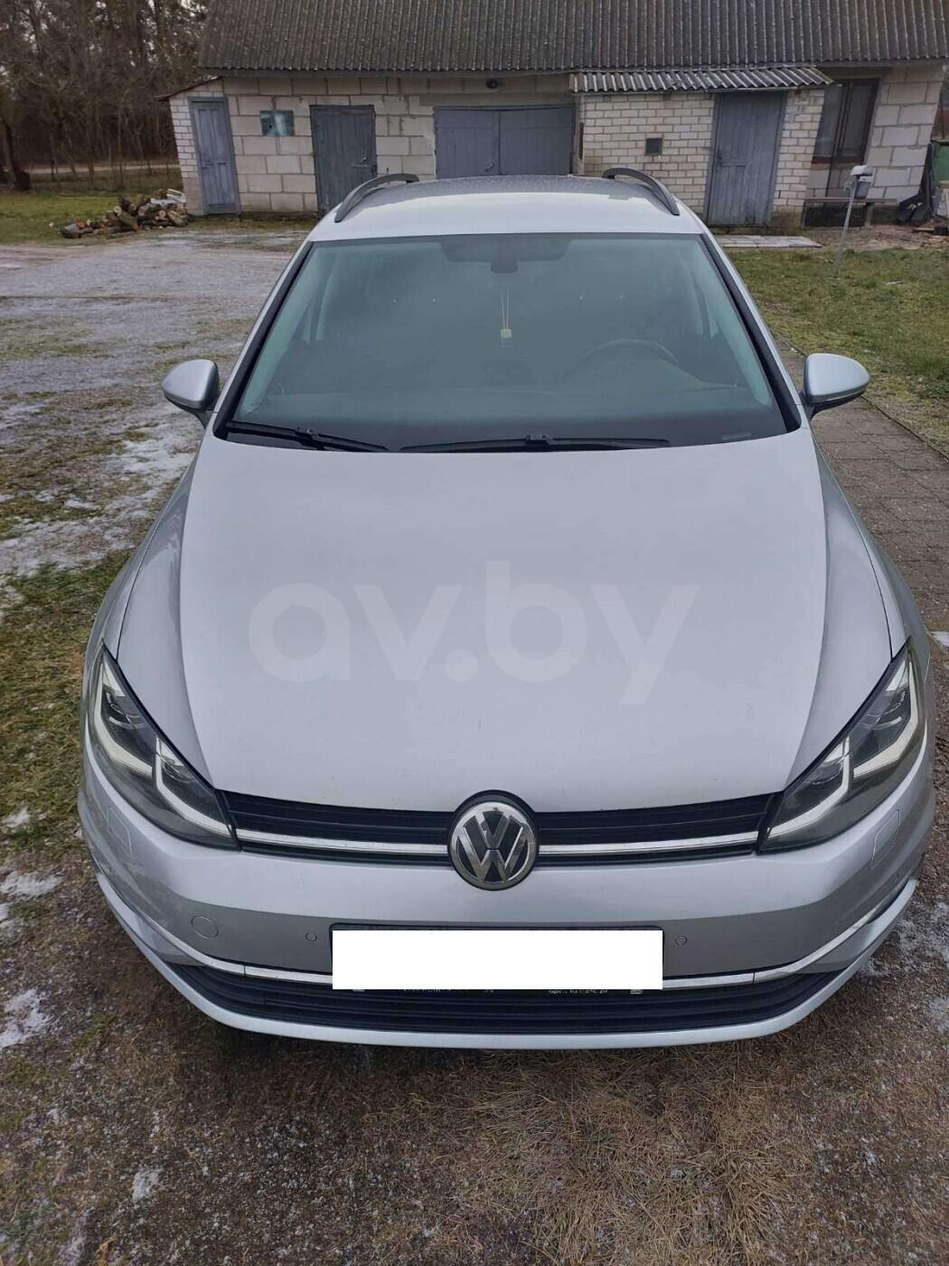Golf_2017-2021: (81, 163, 932, 1071)
